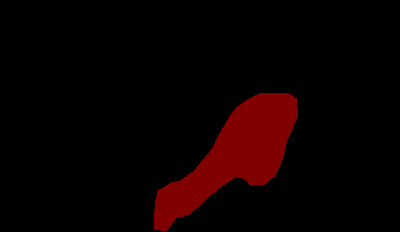fire: (154, 93, 297, 231)
